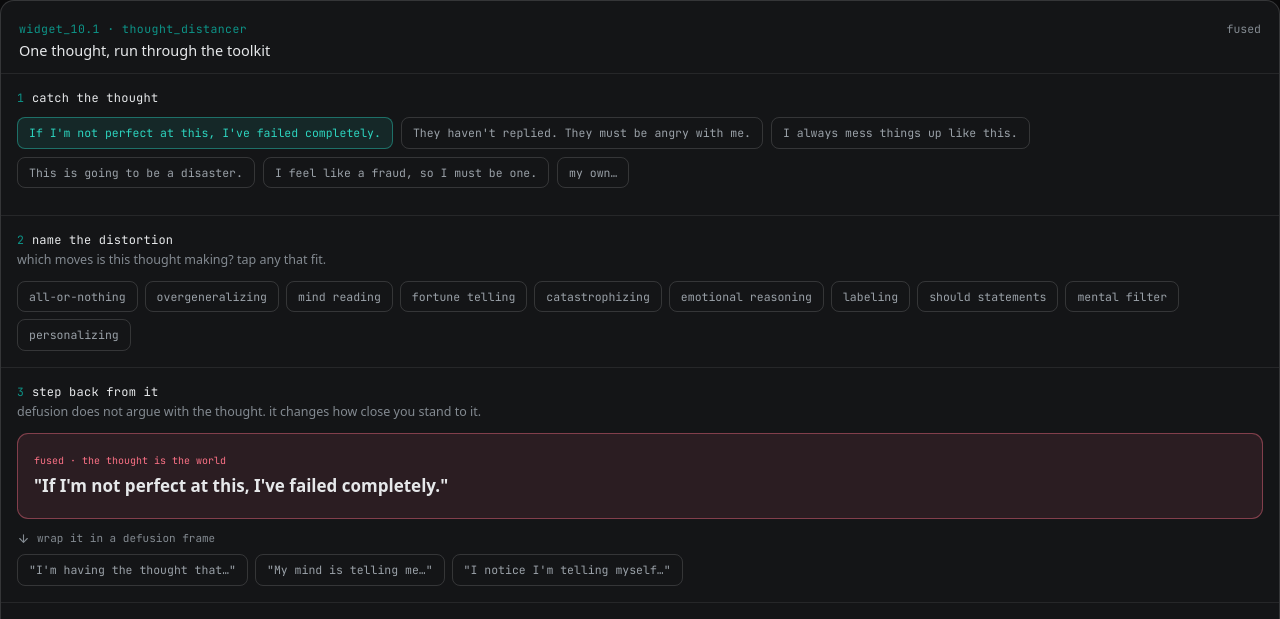
it: ThoughtDistancer › keeps the pronoun I capitalized in an ACT defusion frame
Click the button "I always mess things up like this.": (900, 133) [771,117,1030,148]
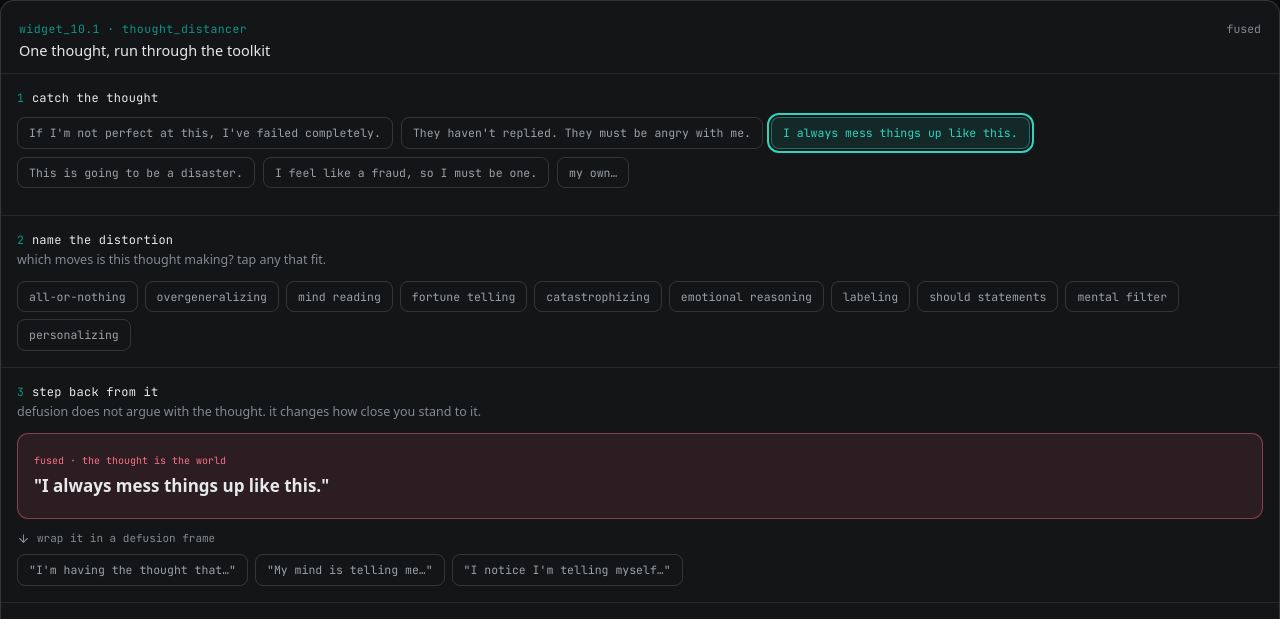
Click the button "\"I'm having the thought that…\"": (132, 570) [17,554,248,586]
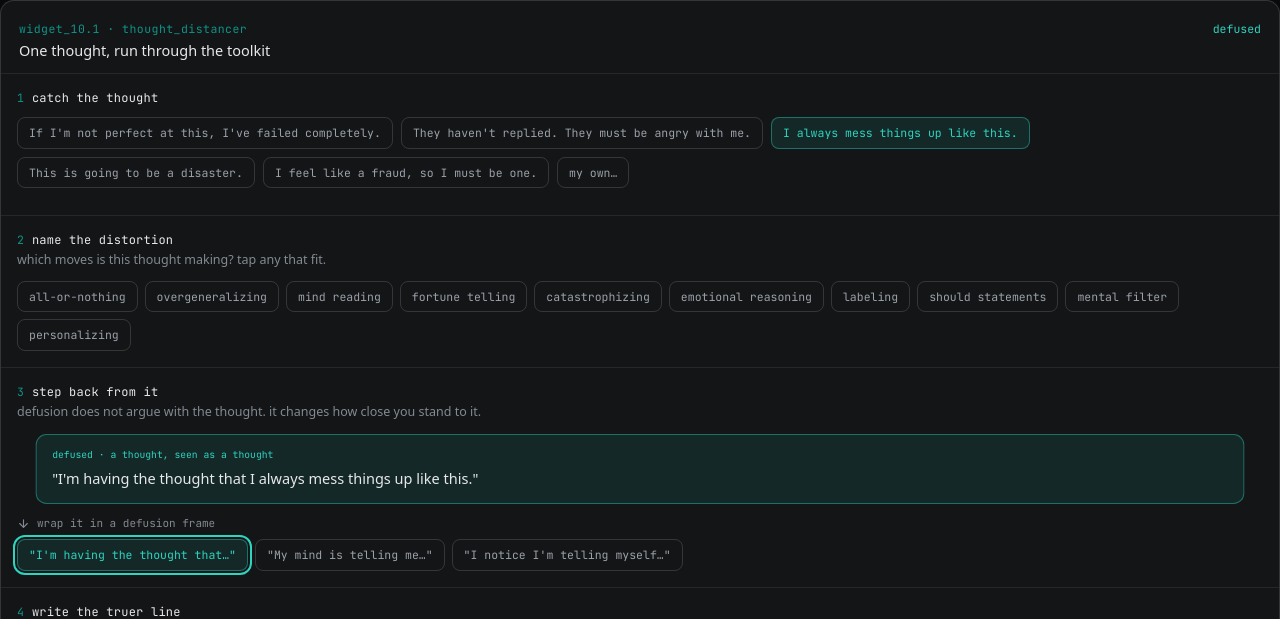
Expected: the text "\"I'm having the thought that I always mess things up like this.\"" is shown, [52,468,478,487]
